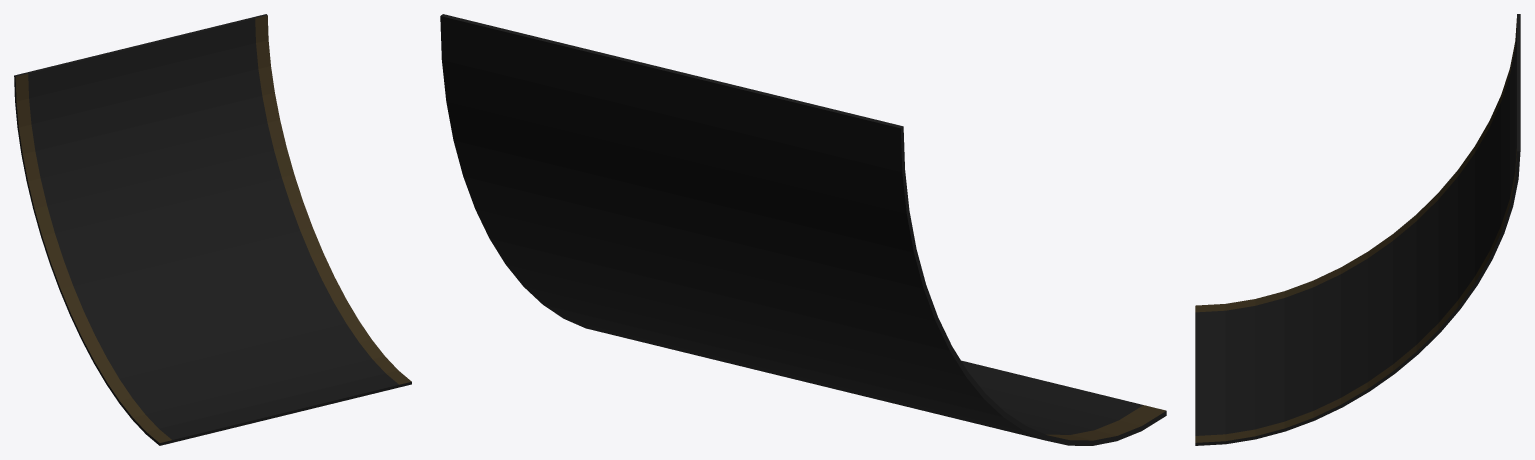
The model's file is wall_track_bottom.obj.
3 renders of one model, left to right at view 1: azimuth 30°, elevation 25°; view 2: azimuth 150°, elevation 25°; view 3: azimuth 270°, elevation 25°, orthographic. The views are drawn at different scales.
Visible parts, largest first — view 1: WallBottom; view 2: WallBottom; view 3: WallBottom.
Boxes of the visible parts, x1,y1,x2,y2 form: WallBottom: (14, 14, 411, 445); WallBottom: (440, 14, 1166, 445); WallBottom: (1195, 14, 1520, 445).
Bounding box in the file's own units: 20 × 20 × 20.
